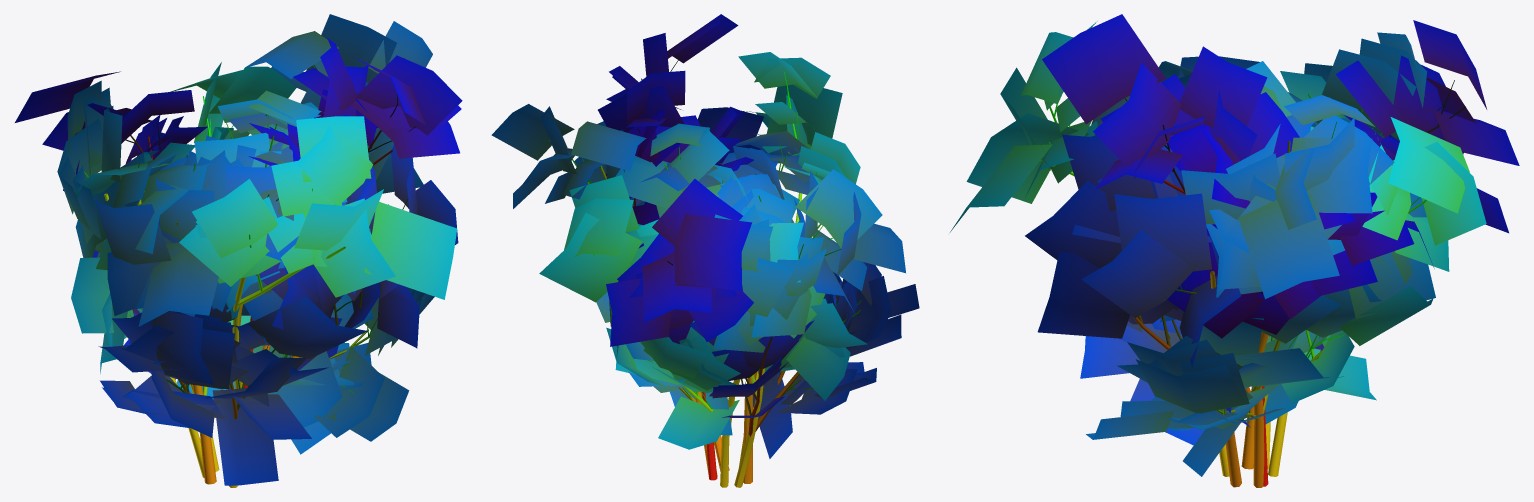
The model's file is SM_Bush_Hazel_A.fbx.
3 renders of one model, left to right at view 1: azimuth 30°, elevation 25°; view 2: azimuth 150°, elevation 25°; view 3: azimuth 270°, elevation 25°, orthographic. The views are drawn at different scales.
Parts seen in each view (by area): view 1: SM_Bush_Hazel_A; view 2: SM_Bush_Hazel_A; view 3: SM_Bush_Hazel_A.
Boxes of the visible parts, x1,y1,x2,y2 form: SM_Bush_Hazel_A: [15, 14, 462, 487]; SM_Bush_Hazel_A: [491, 14, 919, 487]; SM_Bush_Hazel_A: [950, 14, 1519, 487].
Size of the model in its own units: 1.85 by 1.98 by 2.05.
